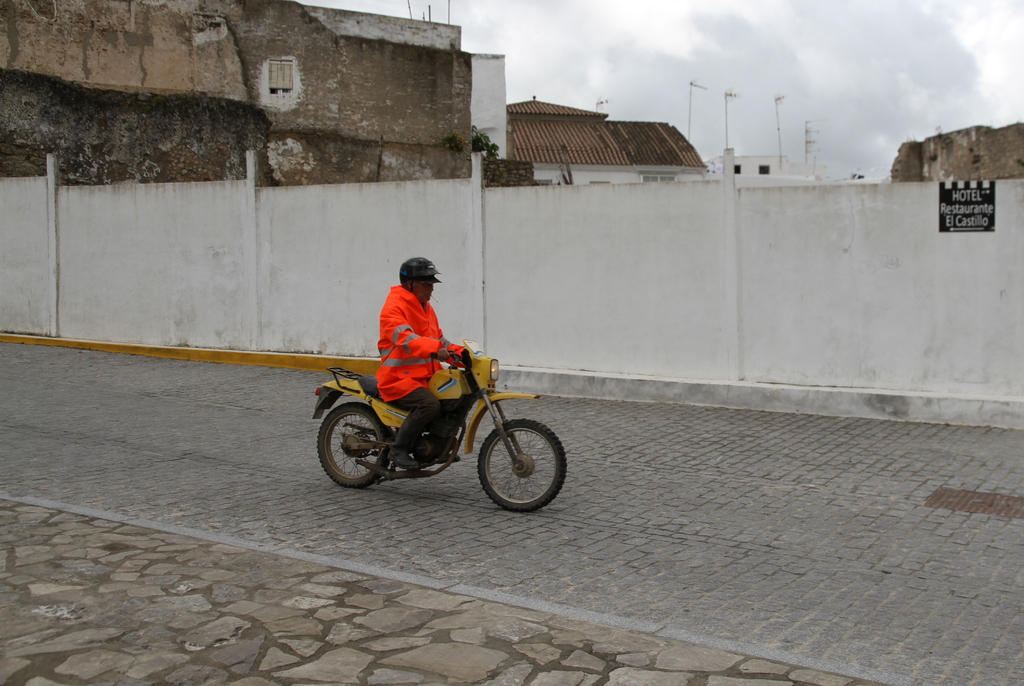Motorcycle: (293, 342, 572, 507)
